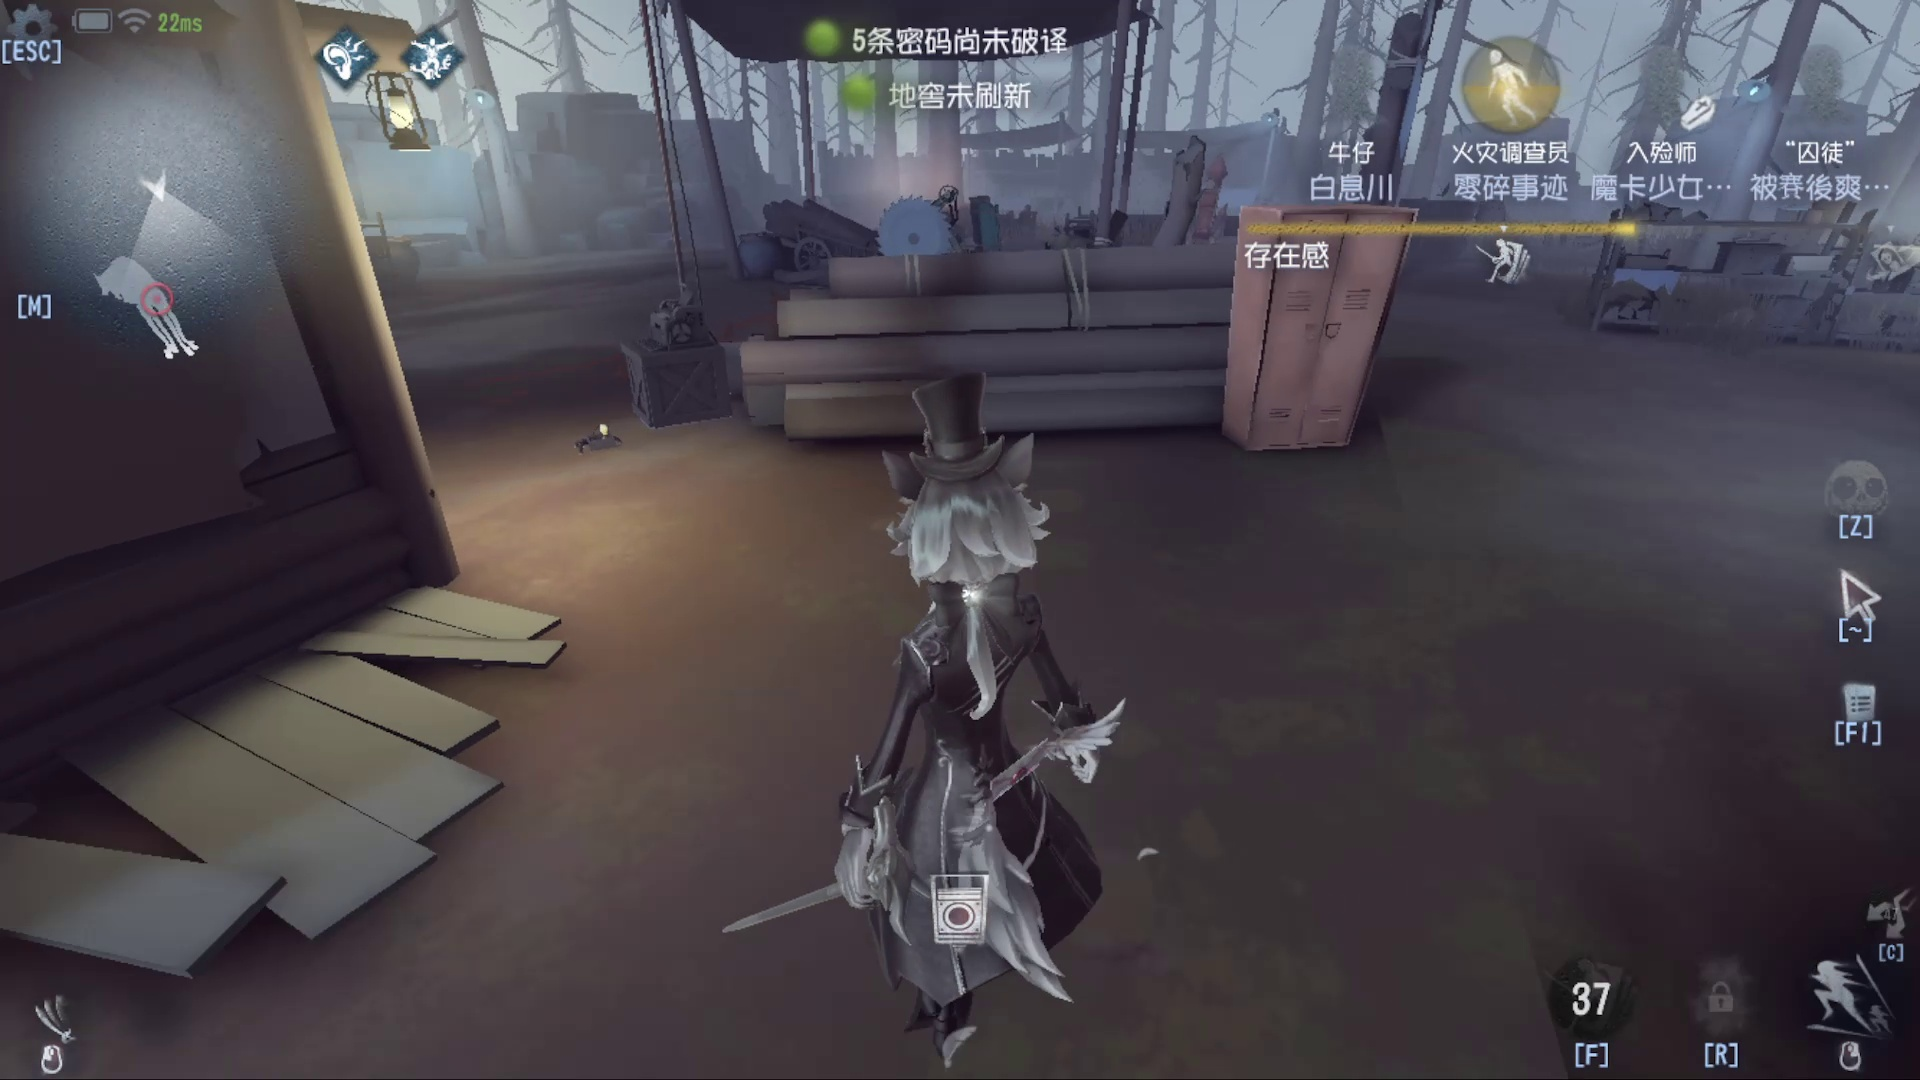密码机: (562, 255, 752, 434)
